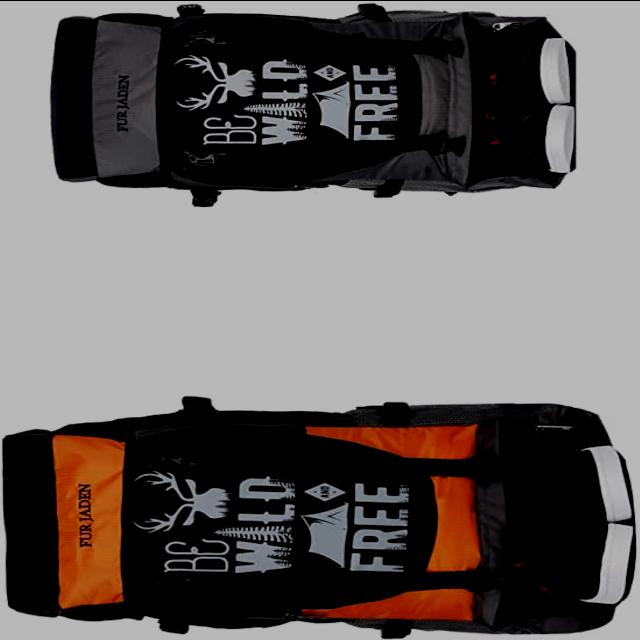backpack: (3, 398, 637, 640), (50, 3, 578, 207)
